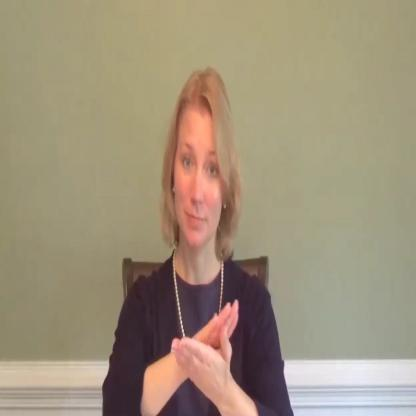NiceToMeetYou: (106, 65, 286, 416)
